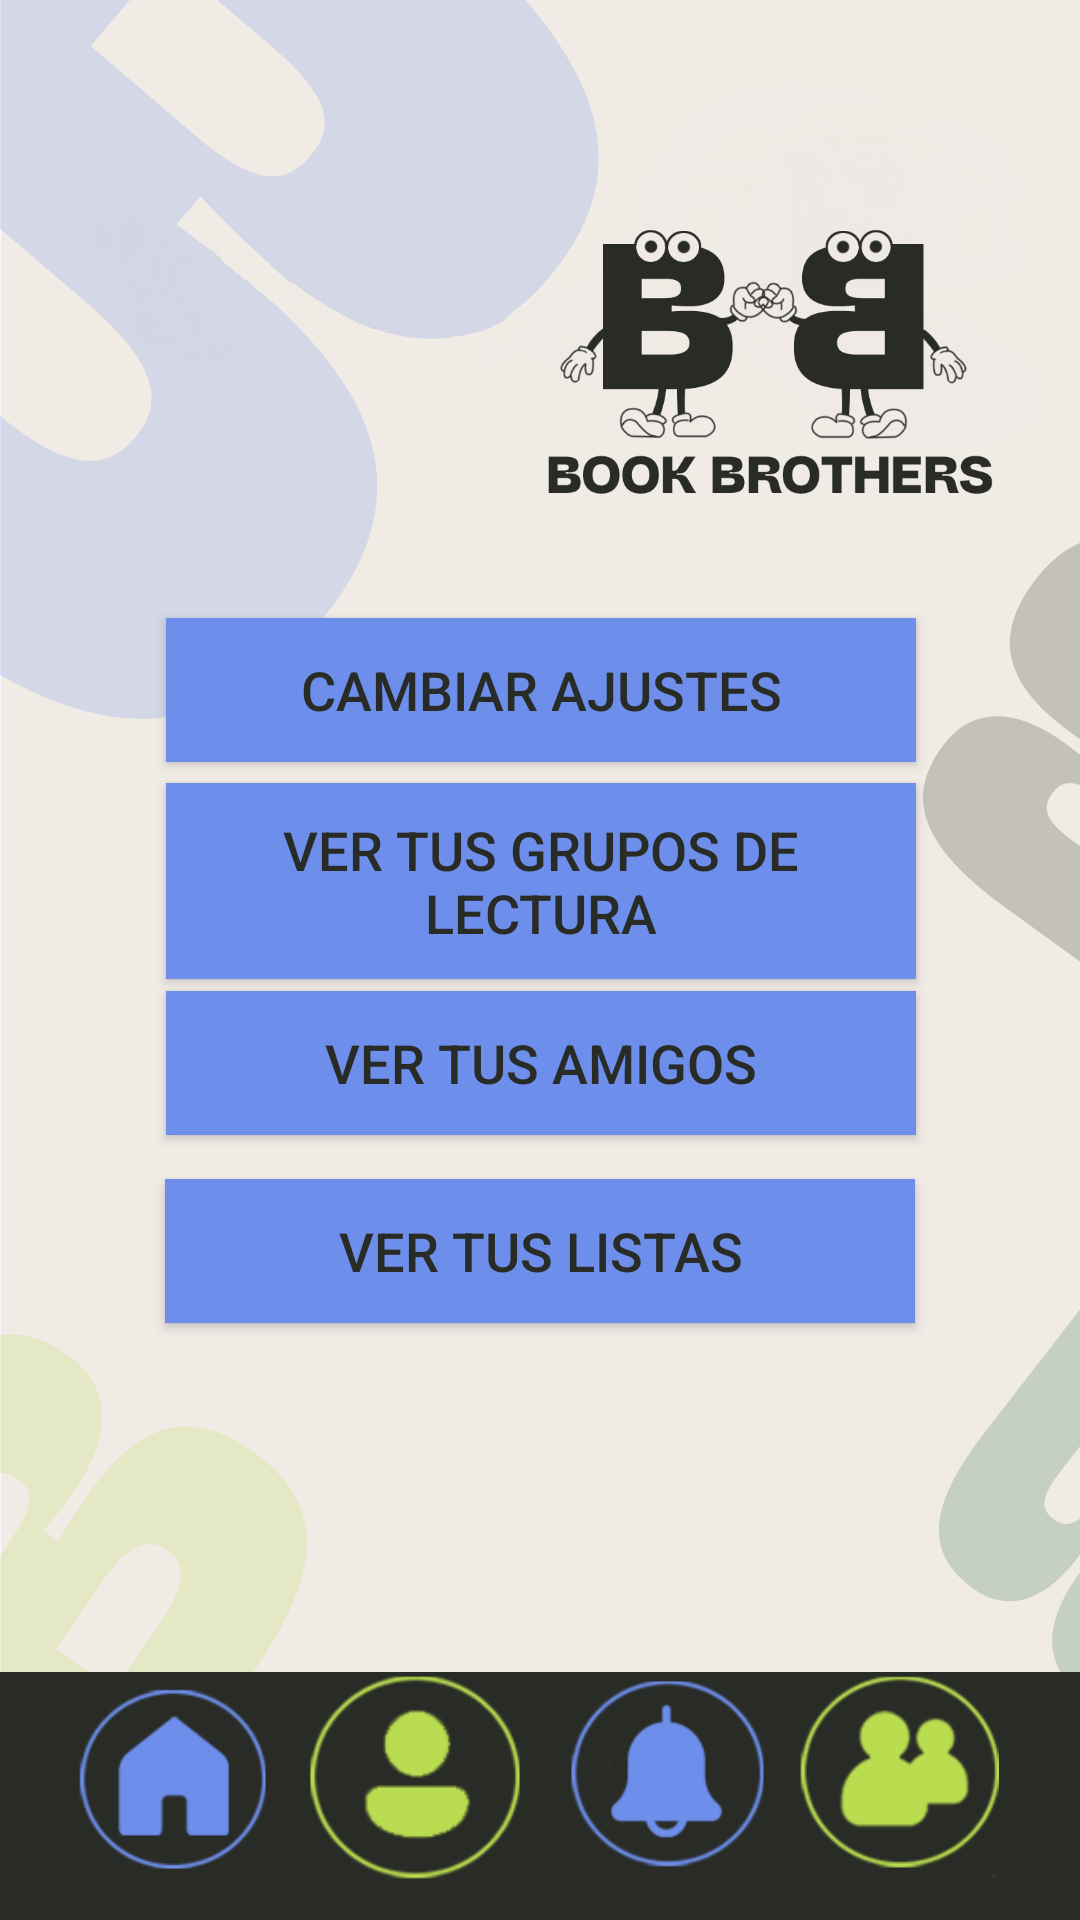

Where icons sit on this 1080 × 1920 app screen, as [left=x1, top=y1, right=x2, bottom=y2]:
amigos home: [left=800, top=1676, right=999, bottom=1868]
home: [left=79, top=1689, right=266, bottom=1869]
notificaciones home: [left=571, top=1681, right=764, bottom=1867]
perfil home: [left=310, top=1676, right=520, bottom=1879]
